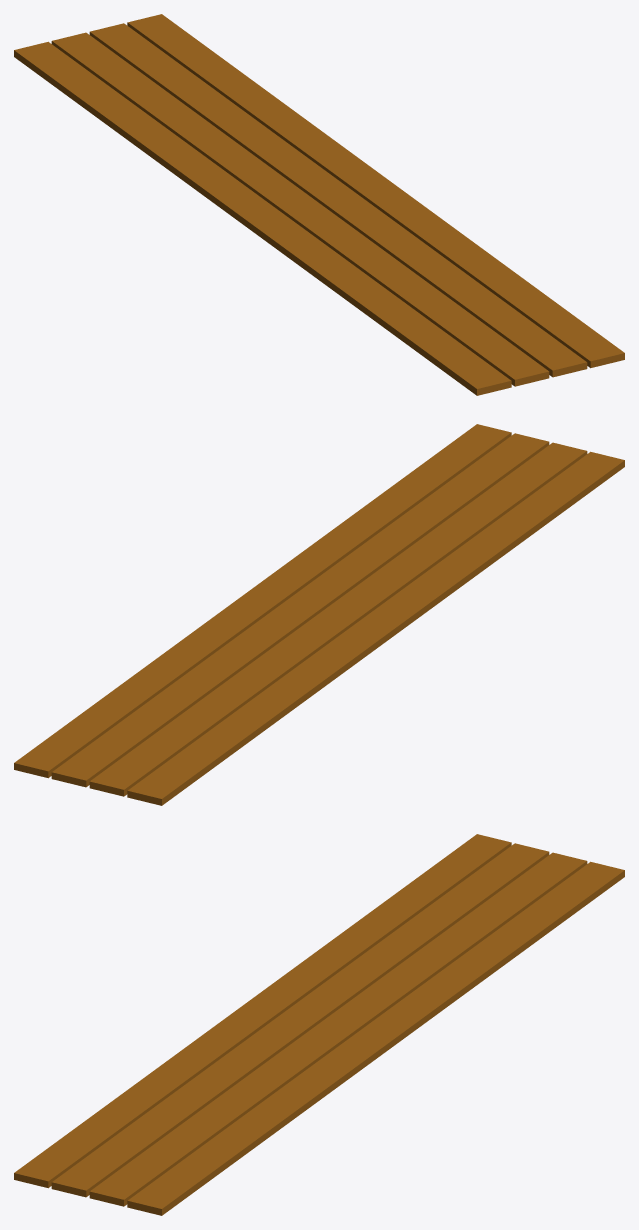
File: floor.fbx
3 views of the same model, one above another, from view 1: azimuth 30°, elevation 25°; view 2: azimuth 150°, elevation 25°; view 3: azimuth 330°, elevation 25° (orthographic).
Visible parts, largest first — view 1: Bar.001, Bar.002, Bar.003, Bar.004; view 2: Bar.001, Bar.002, Bar.003, Bar.004; view 3: Bar.004, Bar.002, Bar.003, Bar.001.
Part boxes in pixels (left/top/right/bottom): Bar.001: left=14, top=41, right=511, bottom=395; Bar.002: left=51, top=32, right=549, bottom=386; Bar.003: left=89, top=23, right=587, bottom=377; Bar.004: left=127, top=14, right=624, bottom=368; Bar.001: left=127, top=451, right=624, bottom=805; Bar.002: left=89, top=442, right=587, bottom=796; Bar.003: left=51, top=433, right=549, bottom=787; Bar.004: left=14, top=424, right=511, bottom=778; Bar.004: left=127, top=861, right=624, bottom=1215; Bar.002: left=51, top=843, right=549, bottom=1197; Bar.003: left=89, top=852, right=587, bottom=1206; Bar.001: left=14, top=834, right=511, bottom=1188.
Size of the model in its own units: 281 by 12.4 by 1522.
